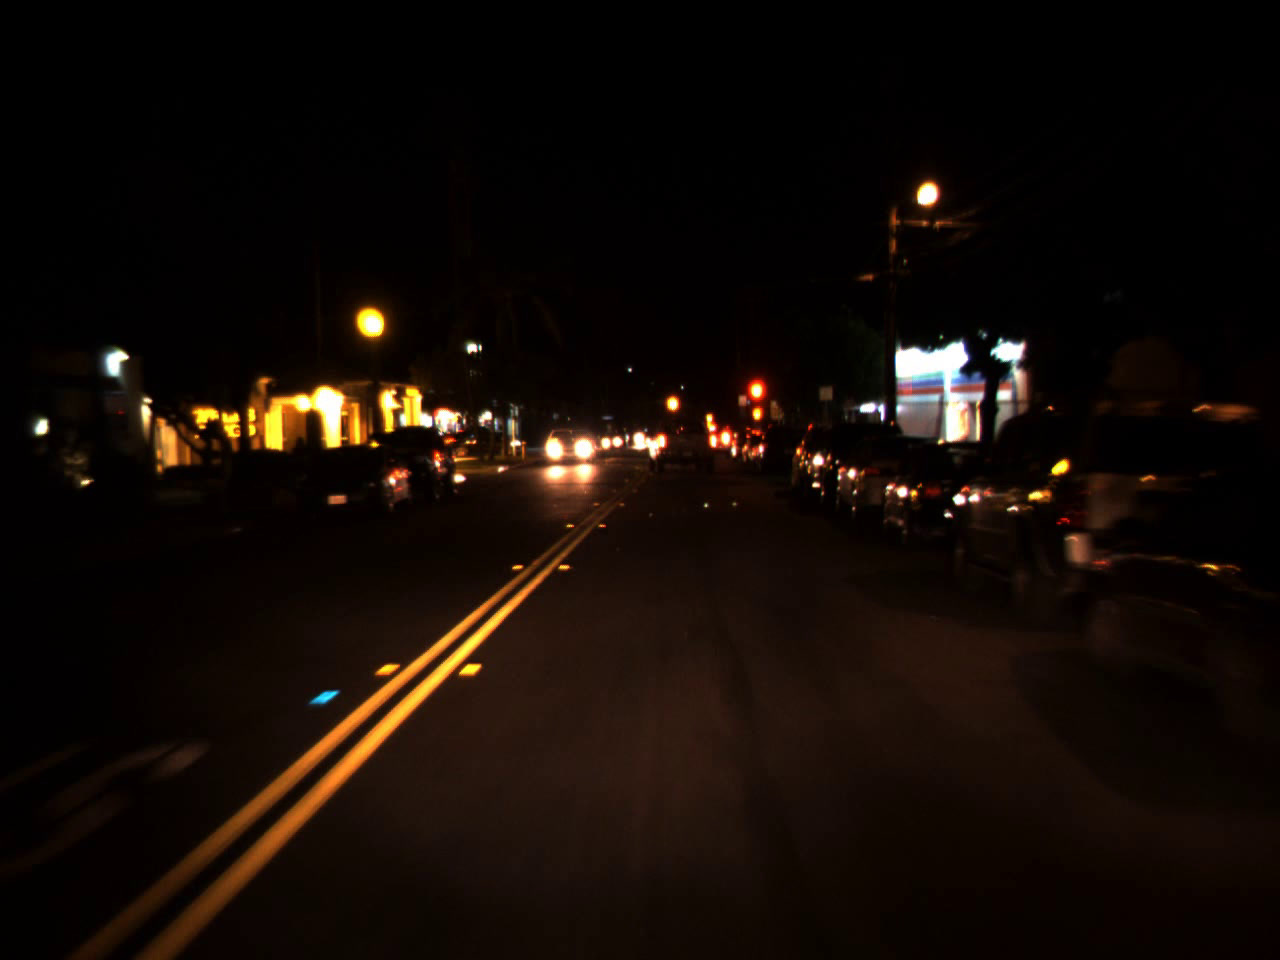stop: (743, 374, 770, 433)
warning: (664, 383, 682, 423), (704, 409, 714, 426)
